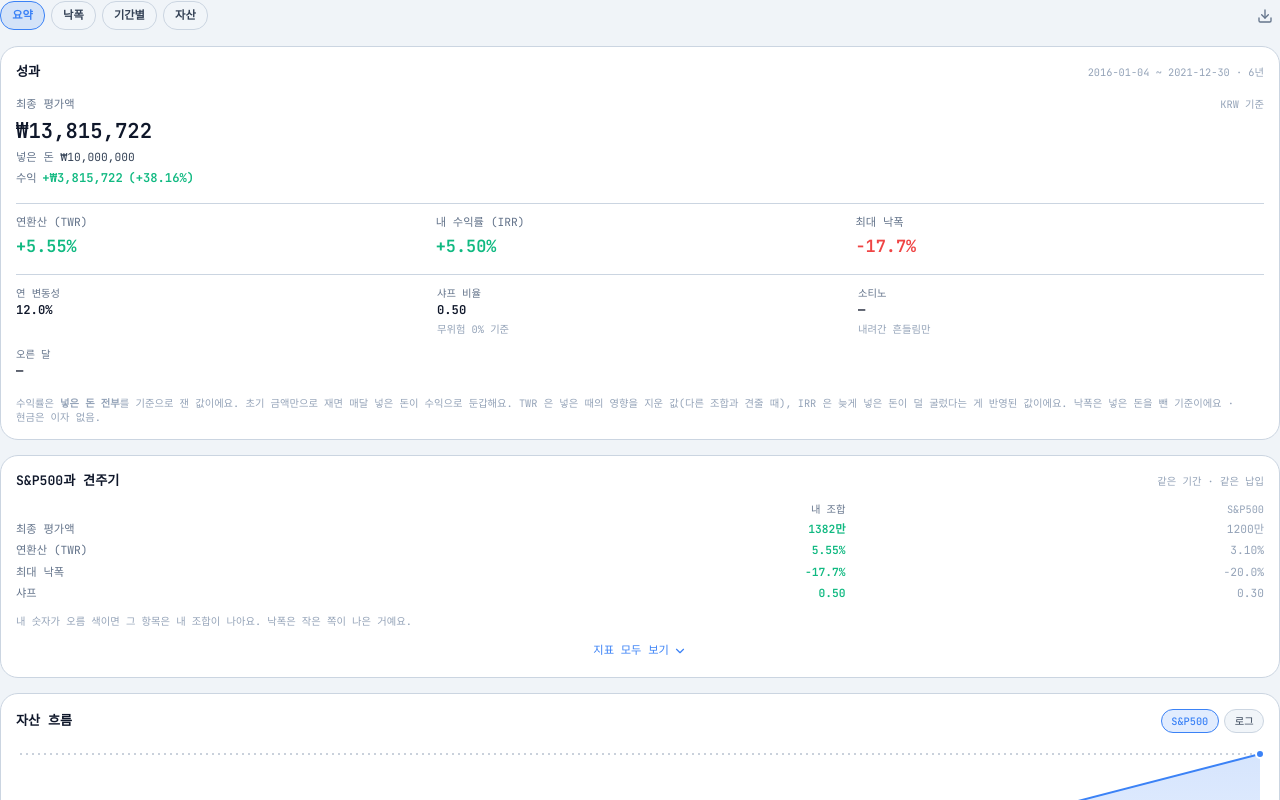
it: 해로 짝짓는다 — 차례로 짝짓지 않는다 › 벤치마크에 없는 해는 내 값만 그린다
The image size is (1280, 800).
Click the tab "기간별" at (130, 16), box [102,1,157,30]
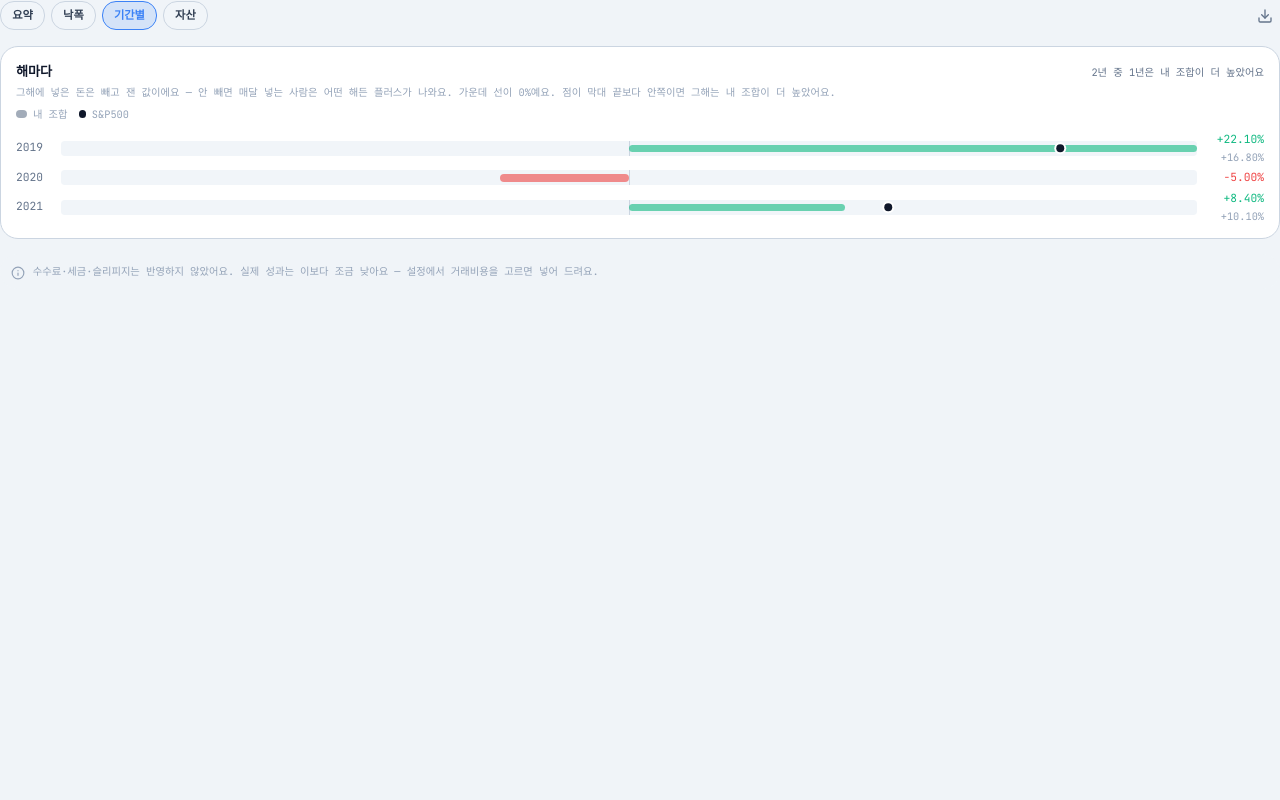
Check: the text "+16.80%" is shown, box [1221,150,1264,164]
Check: the text "+10.10%" is shown, box [1221,209,1264,223]
